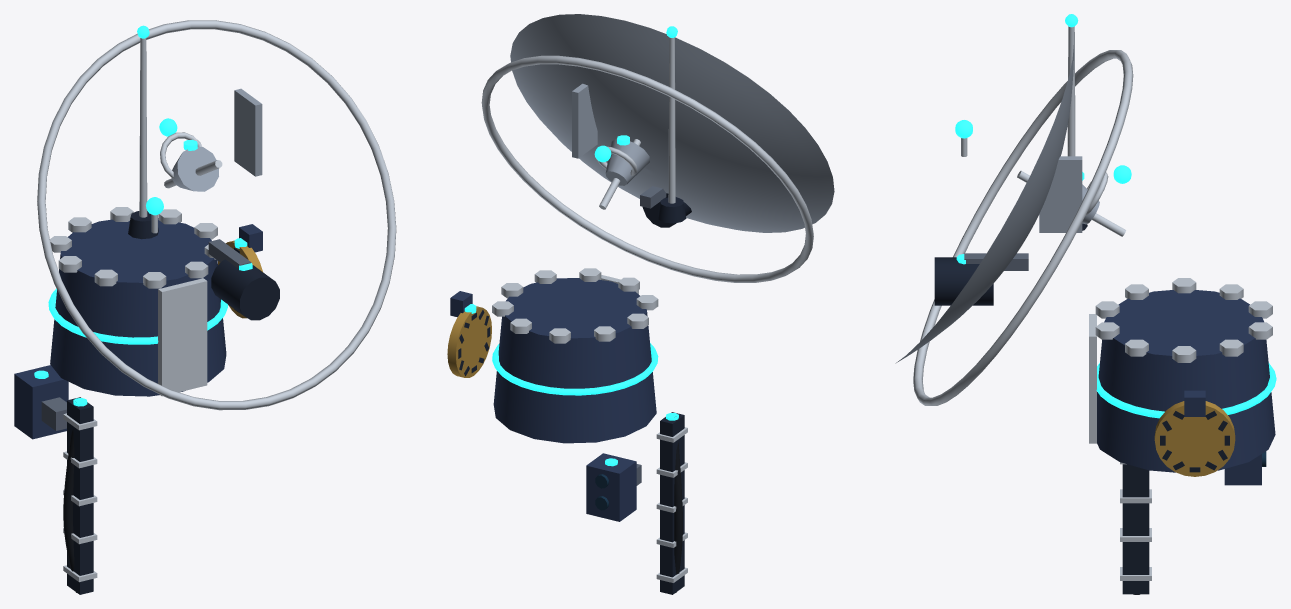
File: tower_skywatch_range_s10.glb
3 views of the same model, side by side, from view 1: azimuth 30°, elevation 25°; view 2: azimuth 150°, elevation 25°; view 3: azimuth 270°, elevation 25° (orthographic). The views are drawn at different scales.
Visible parts, largest first — view 1: skywatch_mast_riser, skywatch_wide_rim, skywatch_riser_ladder, skywatch_cable_ladder, skywatch_riser_bolts, skywatch_dish_counterweight, skywatch_sensor_cluster, skywatch_iff_blade, skywatch_feed_horn, skywatch_whip, skywatch_riser_band, skywatch_ladder_loom (+3 smaller); view 2: skywatch_wide_dish, skywatch_mast_riser, skywatch_wide_rim, skywatch_cable_ladder, skywatch_riser_bolts, skywatch_sensor_cluster, skywatch_encoder_disc, skywatch_riser_band, skywatch_iff_blade, skywatch_feed_horn, skywatch_whip, skywatch_ladder_loom (+1 smaller); view 3: skywatch_mast_riser, skywatch_wide_rim, skywatch_wide_dish, skywatch_encoder_disc, skywatch_riser_bolts, skywatch_cable_ladder, skywatch_iff_blade, skywatch_dish_counterweight, skywatch_riser_band, skywatch_riser_ladder, skywatch_sensor_cluster, skywatch_whip (+2 smaller).
Boxes of the visible parts, x1,y1,x2,y2 form: skywatch_mast_riser: (50,218,226,396); skywatch_wide_rim: (37,20,396,410); skywatch_riser_ladder: (158,278,207,396); skywatch_cable_ladder: (67,397,93,594); skywatch_riser_bolts: (50,207,217,288); skywatch_dish_counterweight: (211,259,279,320); skywatch_sensor_cluster: (14,365,68,439); skywatch_iff_blade: (234,88,262,176); skywatch_feed_horn: (171,146,218,191); skywatch_whip: (139,38,147,217); skywatch_riser_band: (48,288,227,344); skywatch_ladder_loom: (63,429,76,592); skywatch_wide_dish: (510,14,834,232); skywatch_mast_riser: (493,278,656,443); skywatch_wide_rim: (481,55,813,282); skywatch_cable_ladder: (660,412,684,594); skywatch_riser_bolts: (492,268,658,343); skywatch_sensor_cluster: (586,453,636,521); skywatch_encoder_disc: (447,306,491,377); skywatch_riser_band: (492,343,658,395); skywatch_iff_blade: (572,83,597,158); skywatch_feed_horn: (605,138,649,185); skywatch_whip: (668,37,675,203); skywatch_ladder_loom: (674,442,682,592); skywatch_mast_riser: (1097,290,1275,472); skywatch_wide_rim: (913,50,1133,405); skywatch_wide_dish: (895,45,1073,363); skywatch_encoder_disc: (1154,401,1235,476); skywatch_riser_bolts: (1095,278,1272,362); skywatch_cable_ladder: (1122,464,1149,594); skywatch_iff_blade: (1039,156,1082,232); skywatch_dish_counterweight: (934,257,993,305); skywatch_riser_band: (1096,363,1276,418); skywatch_riser_ladder: (1089,314,1096,443); skywatch_sensor_cluster: (1224,454,1261,485); skywatch_whip: (1067,26,1075,156).
Size of the model in its own units: 1.52 by 2.45 by 1.54.
